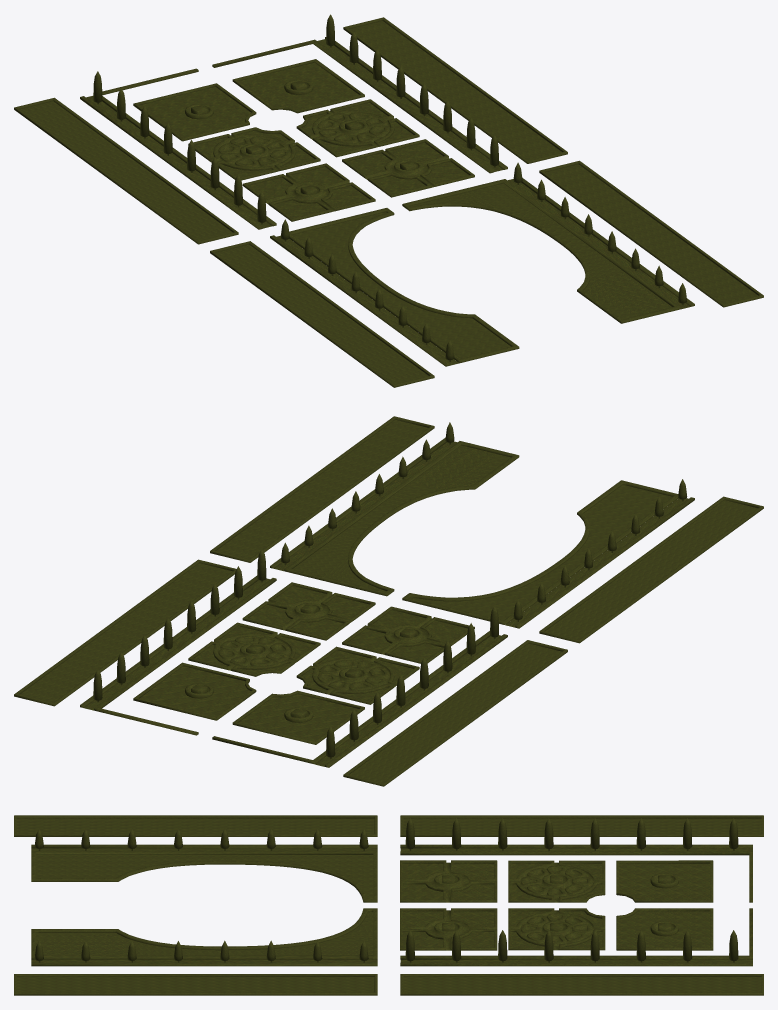
The model's file is grass.glb.
The picture shows the model from 3 angles, top to bottom: view 1: azimuth 30°, elevation 25°; view 2: azimuth 150°, elevation 25°; view 3: azimuth 270°, elevation 25°; orthographic projection.
Visible parts, largest first — view 1: Rear gardens, Filler side gardens, Filler side gardens.001, Villa outer hedge right, Front outer left garden, Large conifers, Small conifers; view 2: Rear gardens, Filler side gardens, Filler side gardens.001, Villa outer hedge right, Front outer left garden, Large conifers, Small conifers; view 3: Rear gardens, Filler side gardens, Filler side gardens.001, Front outer left garden, Villa outer hedge right, Large conifers, Small conifers.
Boxes of the visible parts, x1=… form: Rear gardens: x1=80, y1=37, x2=507, y2=229; Filler side gardens: x1=210, y1=160, x2=763, y2=387; Filler side gardens.001: x1=14, y1=17, x2=567, y2=244; Villa outer hedge right: x1=402, y1=178, x2=694, y2=323; Front outer left garden: x1=270, y1=208, x2=519, y2=366; Large conifers: x1=93, y1=14, x2=498, y2=224; Small conifers: x1=280, y1=162, x2=686, y2=361; Rear gardens: x1=80, y1=575, x2=507, y2=767; Filler side gardens: x1=210, y1=416, x2=763, y2=643; Filler side gardens.001: x1=14, y1=559, x2=567, y2=786; Villa outer hedge right: x1=270, y1=437, x2=519, y2=596; Front outer left garden: x1=402, y1=480, x2=694, y2=628; Large conifers: x1=93, y1=549, x2=498, y2=759; Small conifers: x1=280, y1=422, x2=687, y2=621; Rear gardens: x1=400, y1=844, x2=752, y2=966; Filler side gardens: x1=14, y1=815, x2=377, y2=995; Filler side gardens.001: x1=400, y1=815, x2=763, y2=995; Front outer left garden: x1=31, y1=844, x2=377, y2=902; Villa outer hedge right: x1=31, y1=908, x2=377, y2=966; Large conifers: x1=405, y1=818, x2=738, y2=962; Small conifers: x1=34, y1=828, x2=368, y2=962.
Size of the model in its own units: 171 by 14.69 by 304.
Materials: 2 (2 with a texture image).
